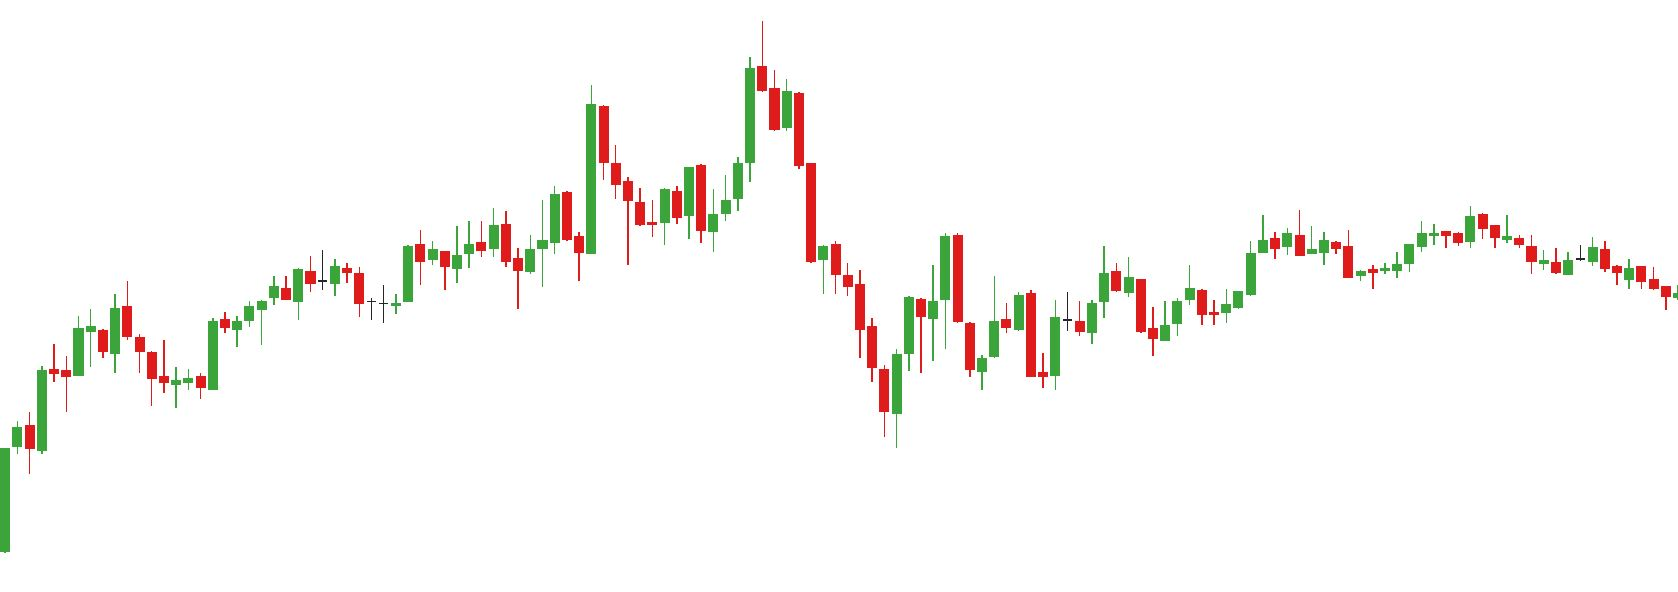buy: (439, 240, 525, 317)
sell: (584, 20, 768, 176)
